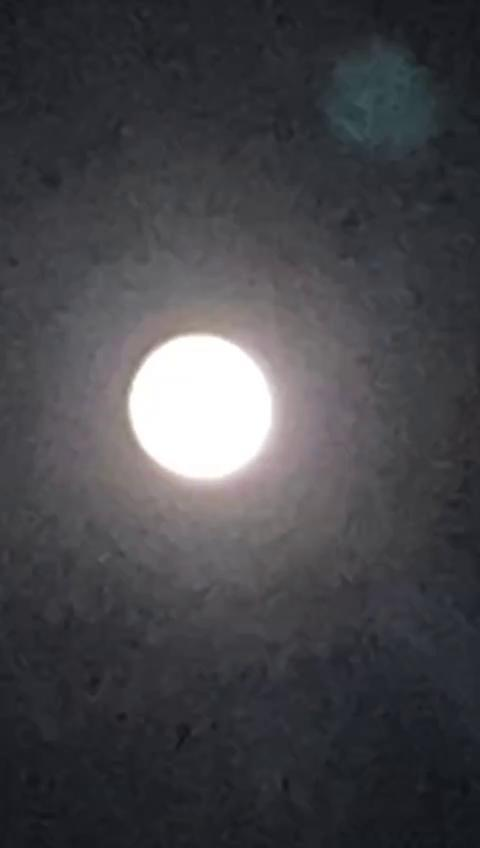moon: (110, 336, 288, 527)
